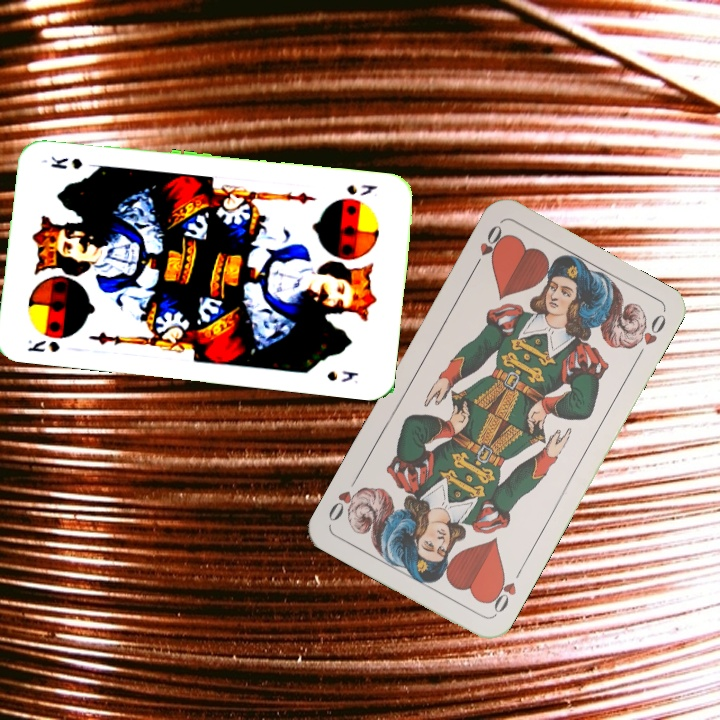HO: (484, 564, 525, 618), (468, 220, 507, 273)
SK: (23, 336, 62, 355), (343, 180, 380, 198)
